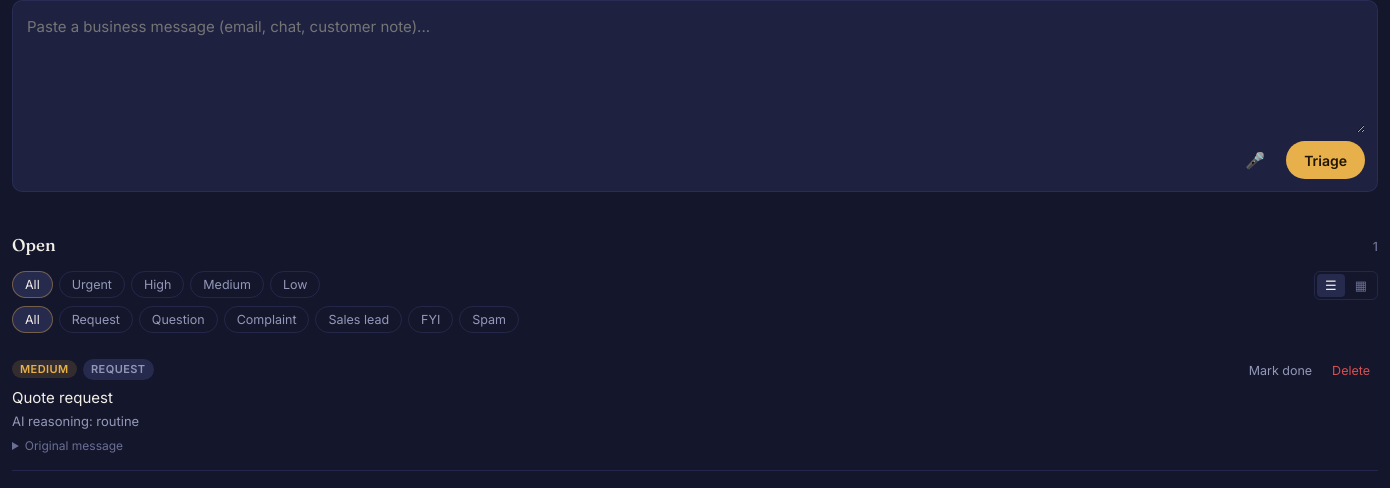
Test case: BusinessTab › marking a message done moves it to the Done section and reports the open count
Expected: the text "Quote request" is shown, x1=12 y1=388 x2=113 y2=407
Step 1. Click the button "Mark done" → (1280, 370), box x1=1241 y1=359 x2=1320 y2=382
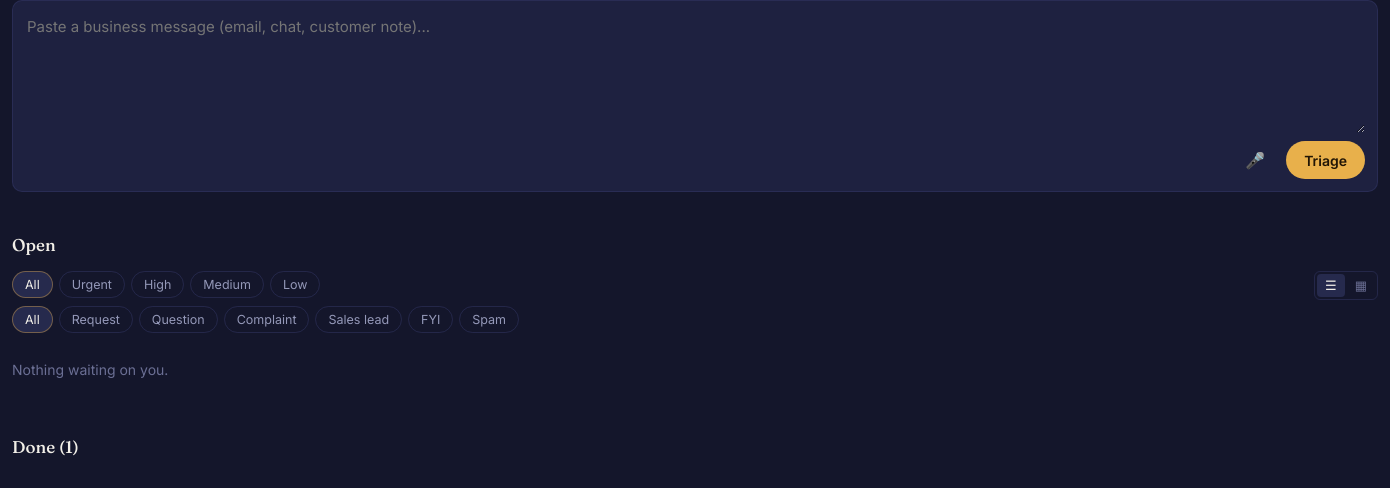
Now the heading "Done (1)" is shown, box x1=12 y1=436 x2=79 y2=457
